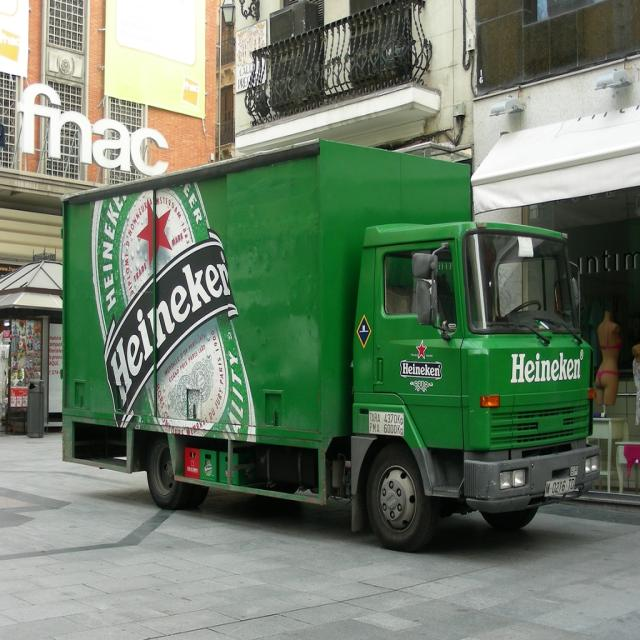heineken: (92, 184, 256, 443), (400, 339, 445, 395)
